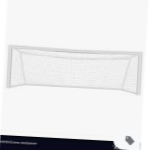goals: (4, 42, 143, 99)
